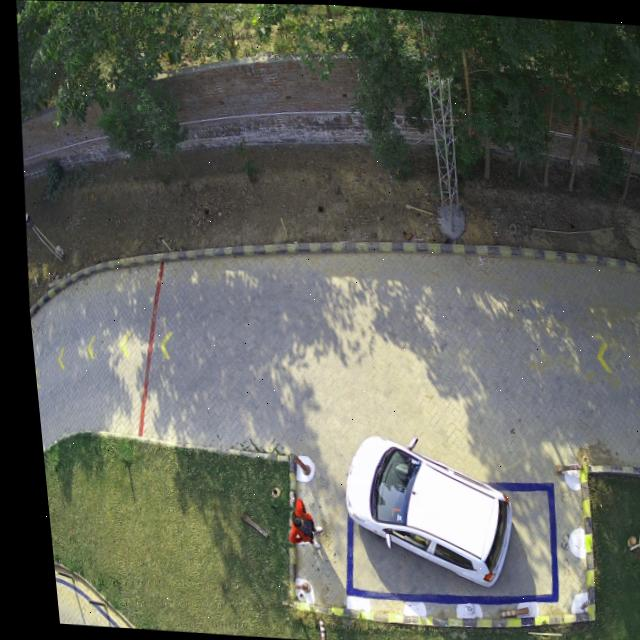car: (336, 435, 503, 584)
